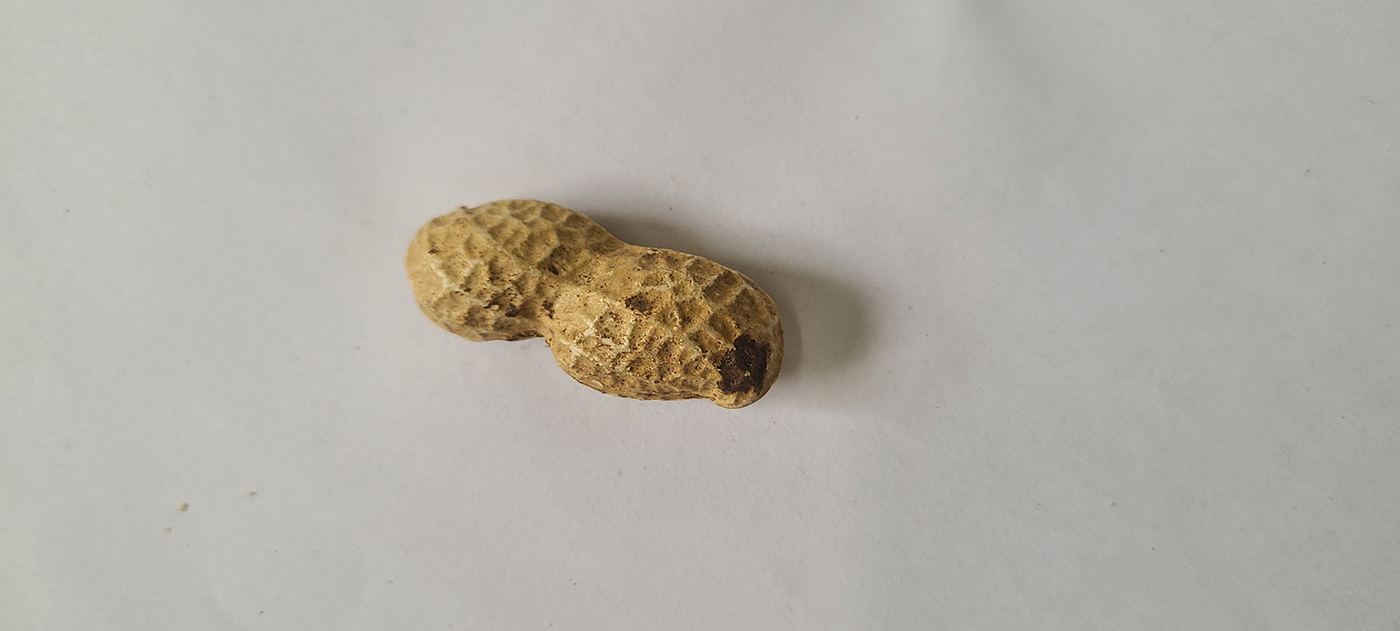h: (405, 197, 789, 409)
